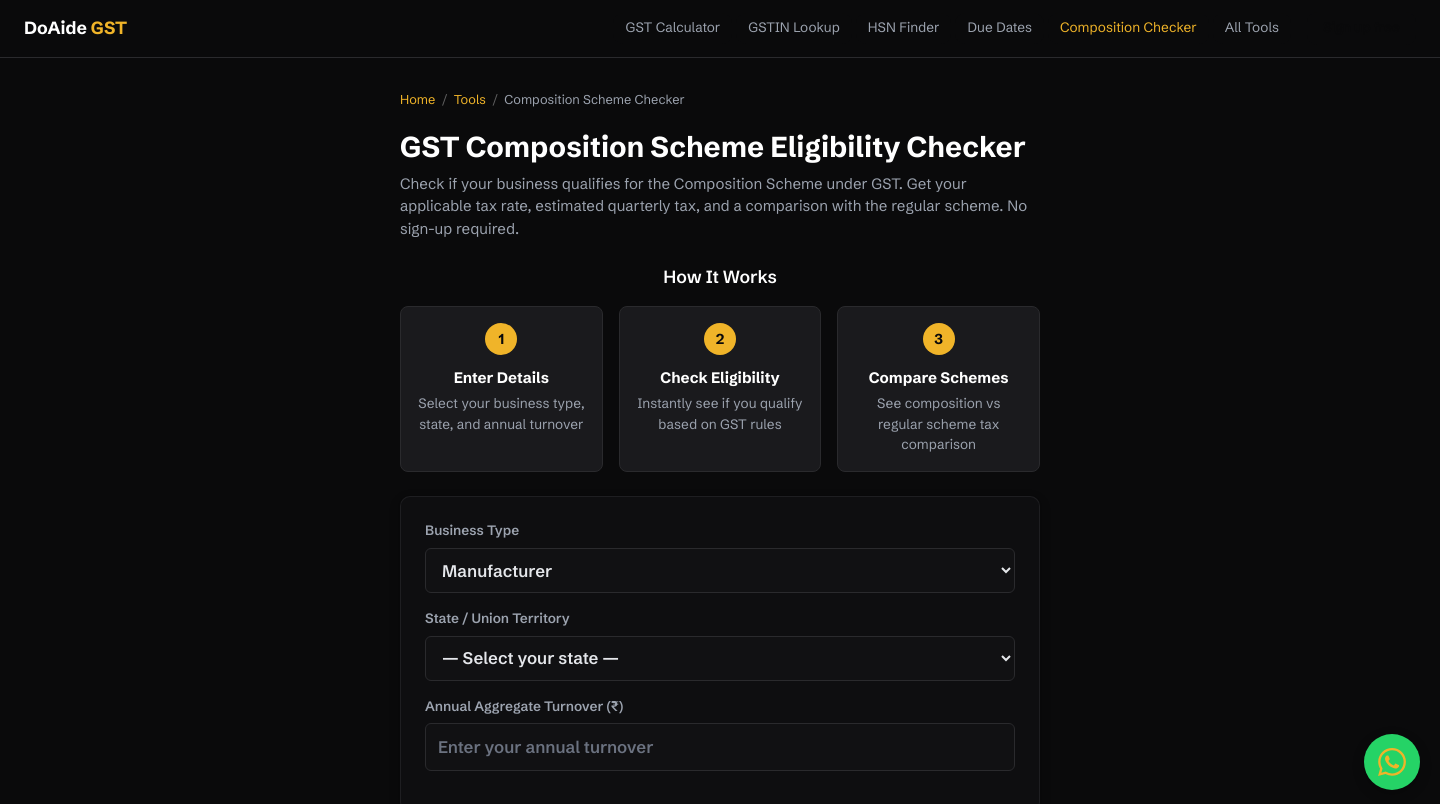
it: CompositionSchemeCheckerPage › applies ₹50L limit for service providers regardless of state
The image size is (1440, 804).
Select "Service Provider" in the dropdown labelled "Business Type" at (720, 571), box [425, 548, 1015, 593]
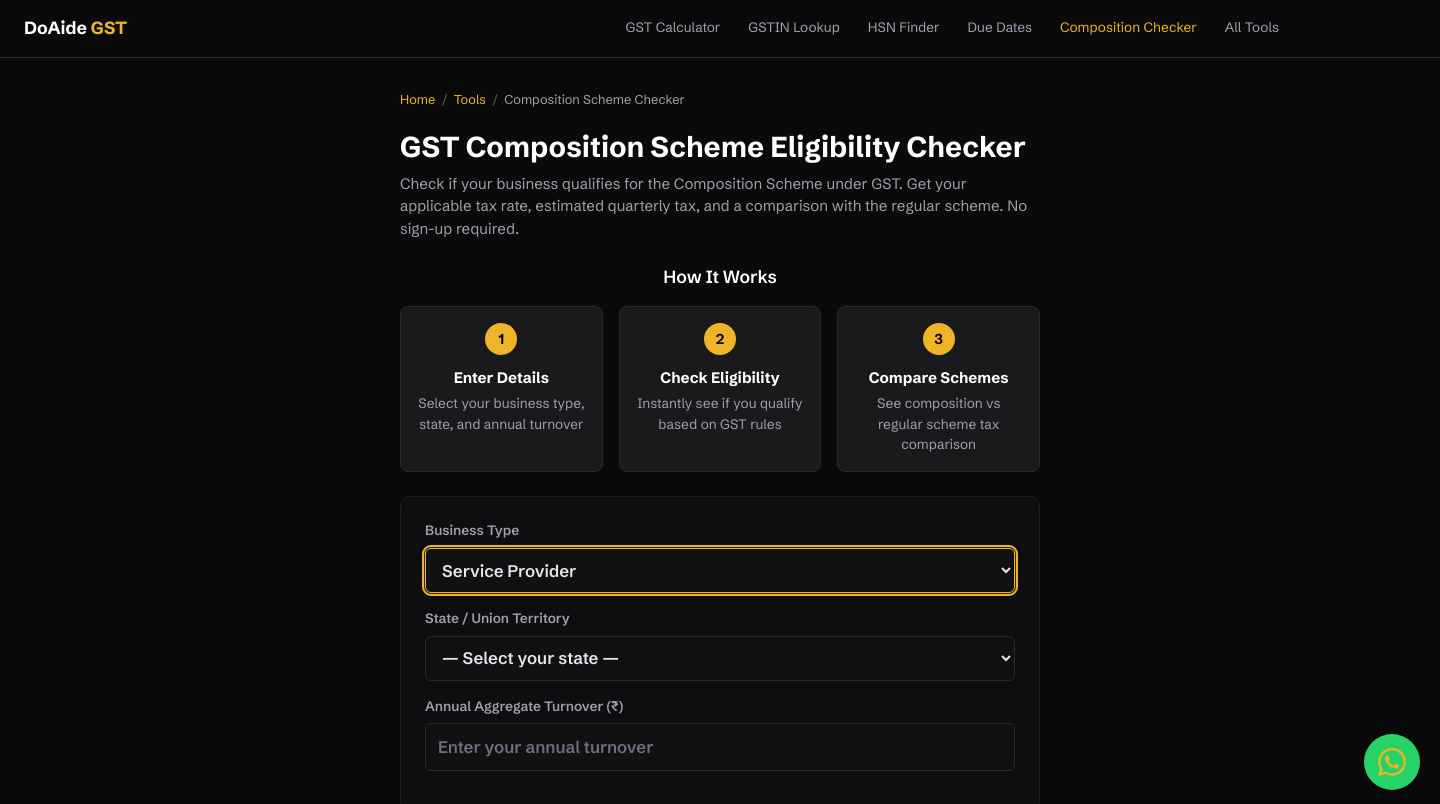
Select "Delhi" in the dropdown labelled "State / Union Territory" at (720, 658), box [425, 636, 1015, 681]
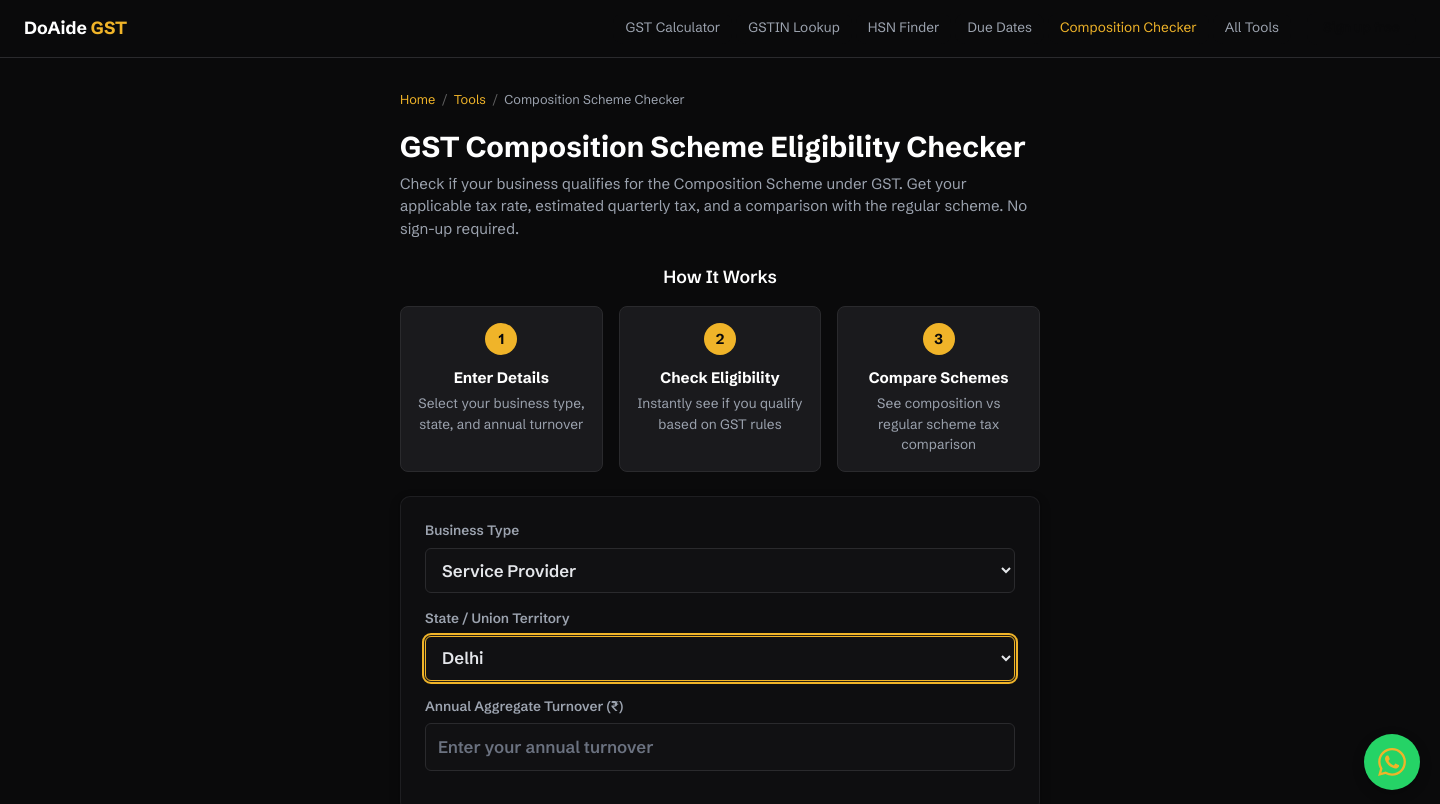
Type "6000000" into the number field labelled "Annual Aggregate Turnover (₹)" at (720, 747), box [425, 723, 1015, 771]
(page scrolled)
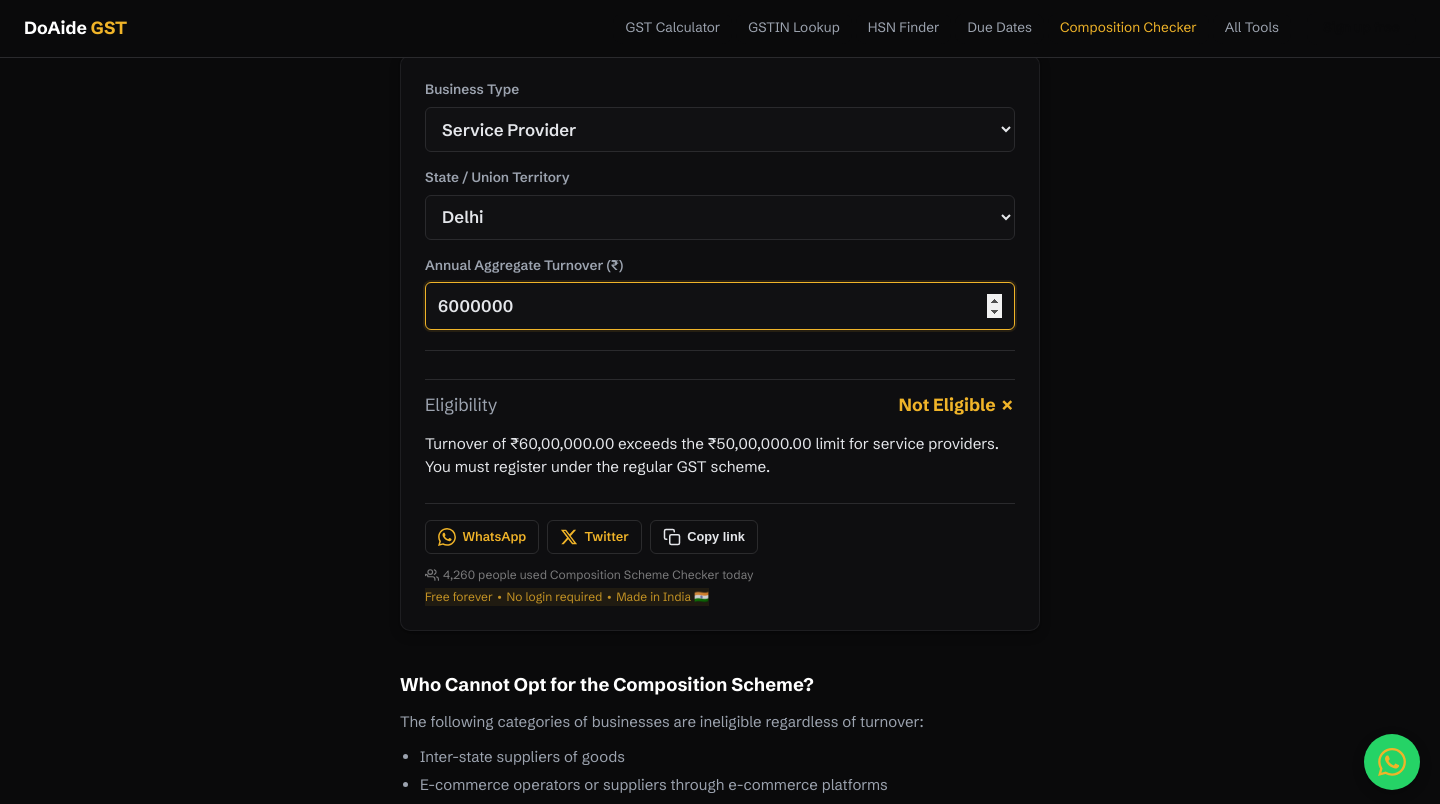
Check: the text "Not Eligible ✗" is shown, box [899, 392, 1015, 419]
